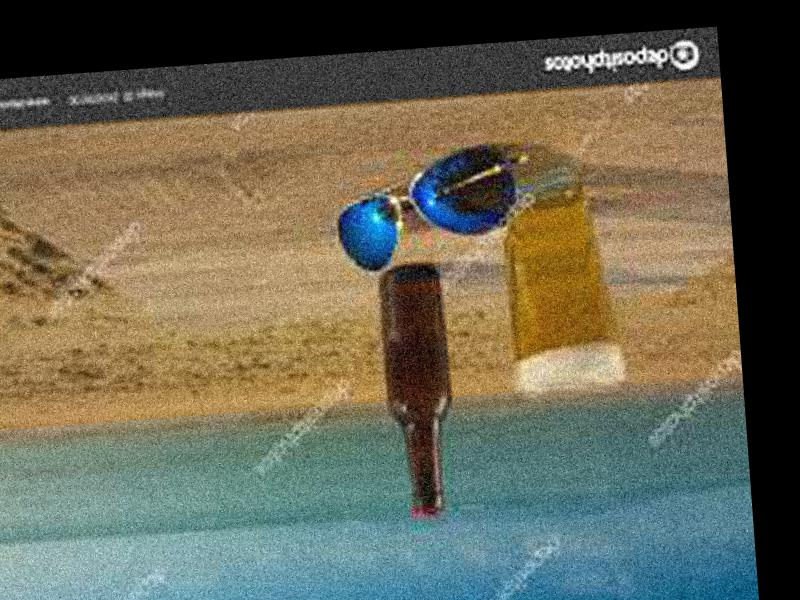Beer: (377, 265, 459, 519)
